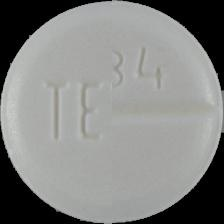0615-8048: (0, 0, 224, 224)
